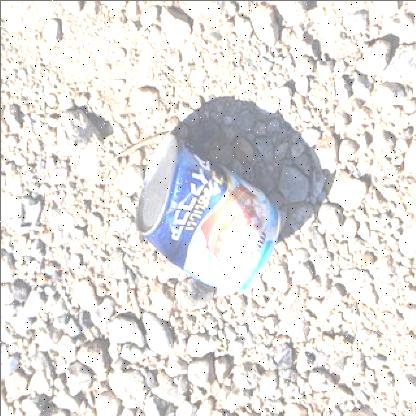Can: (134, 134, 282, 297)
